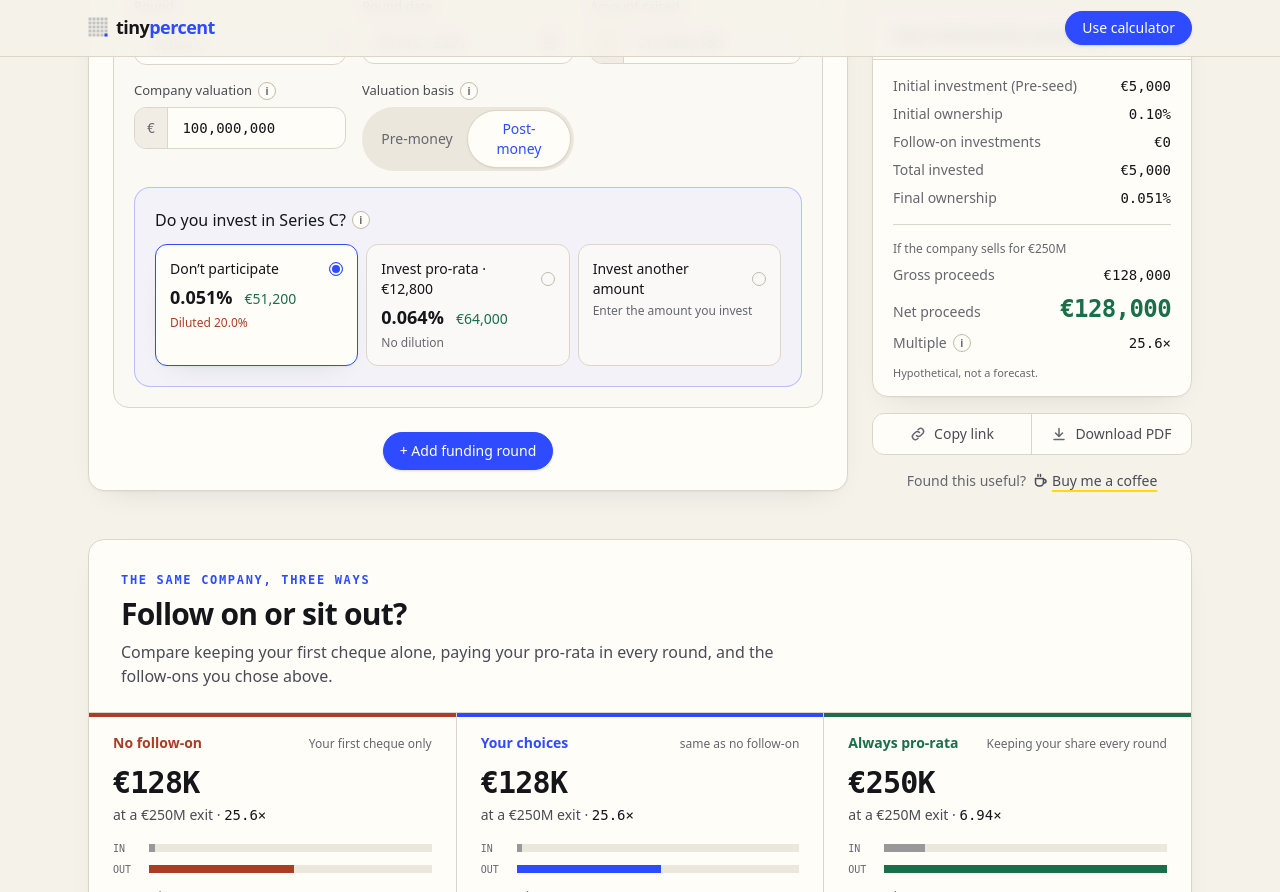
Test case: future rounds and the follow-on choice › asks for a decision on a round you add, and takes an amount or “don’t participate”
(page scrolled)
Click the button "+ Add funding round" at point(468, 450), box [383, 432, 553, 470]
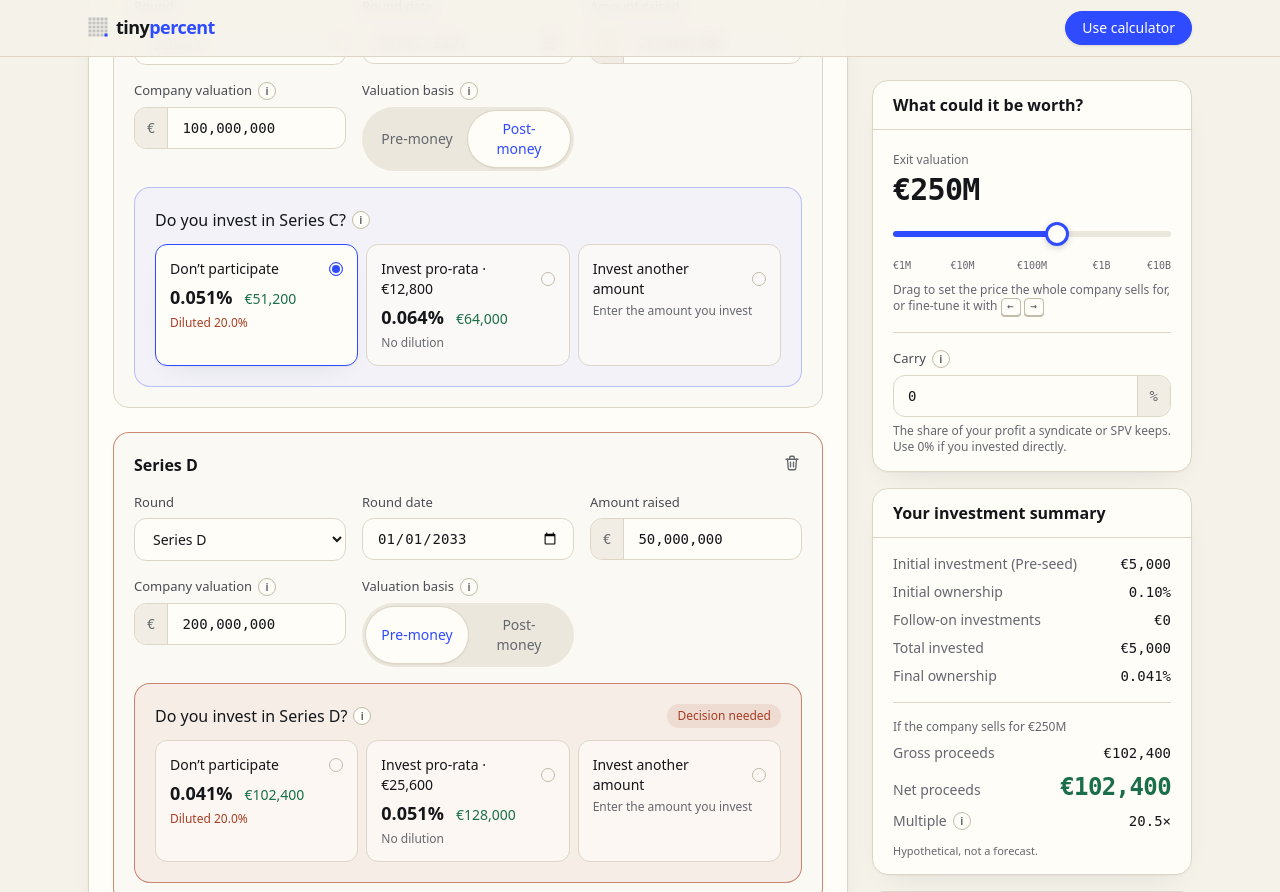
Expected: the message reads "Decision needed", [678, 706, 771, 724]
Click the radio button labelled "Invest another amount" below "Decision needed" at point(679, 800), box [578, 740, 781, 862]
(page scrolled)
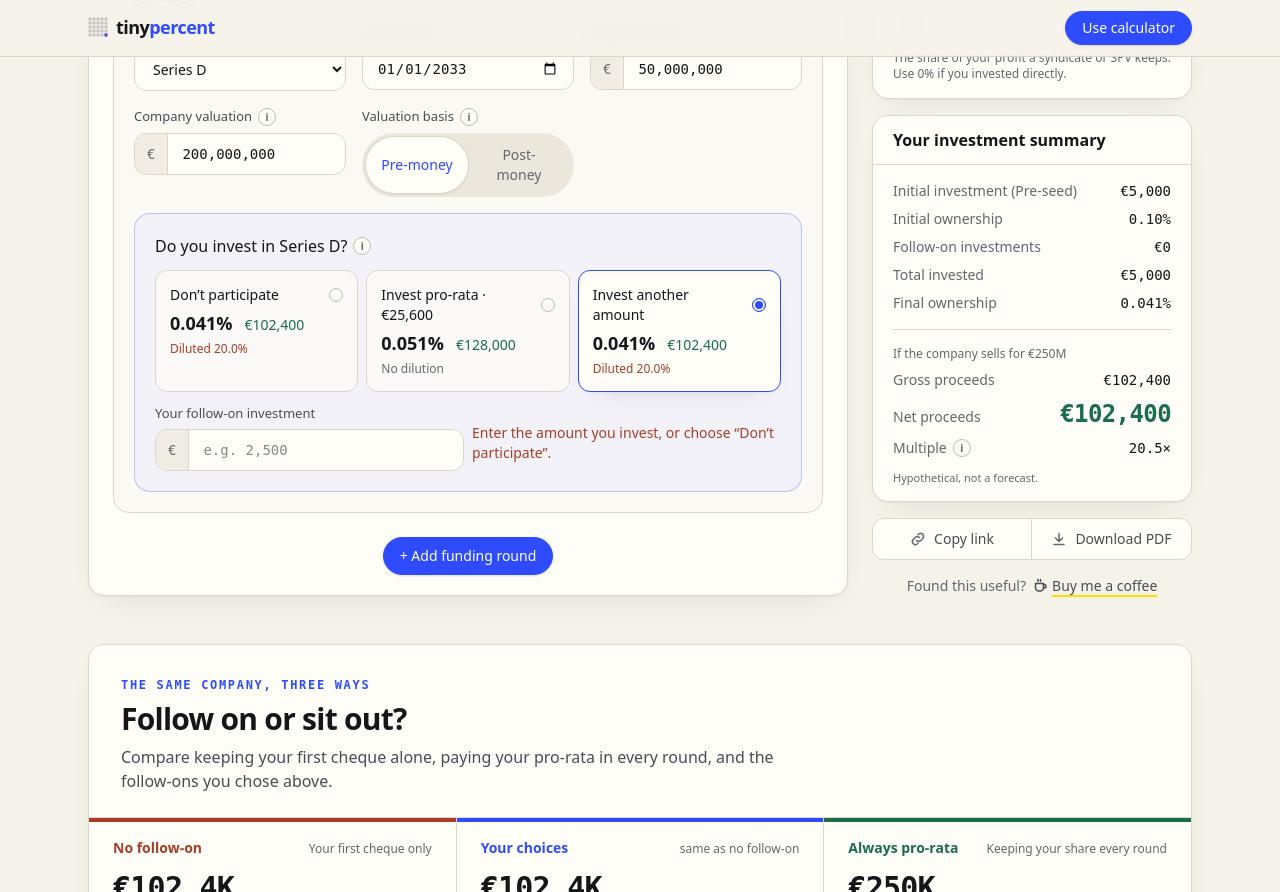
Expected: the message "Decision needed" is gone
Expected: the text "Enter the amount you invest, or choose “Don’t participate”." is shown, [472, 423, 781, 471]
Type "10k" into the field labelled "Your follow-on investment" at point(326, 450), box [189, 430, 463, 470]
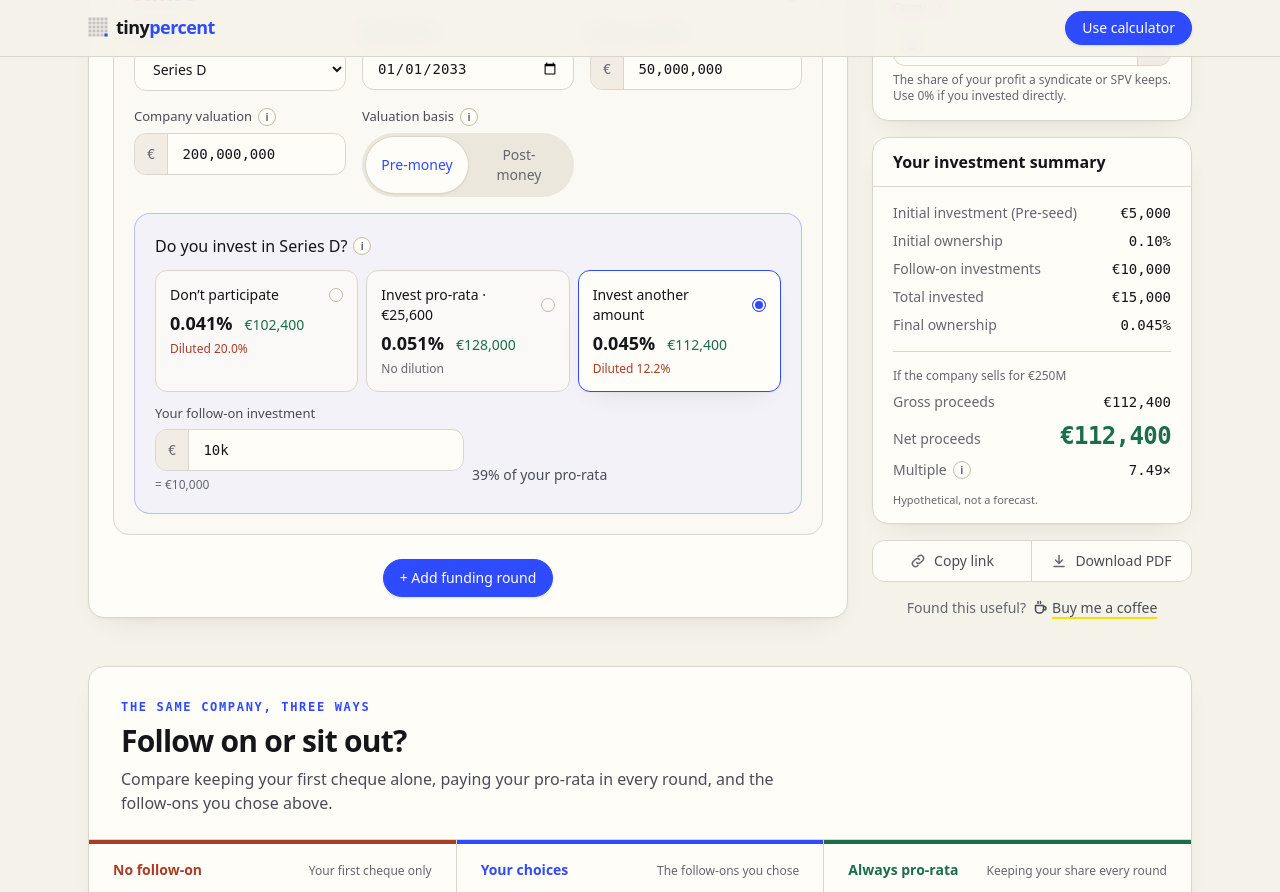
Expected: the text "39% of your pro-rata" is shown, [472, 465, 607, 484]
Click the radio button with aria-label "Don’t participate in Series D" at point(257, 330), box [155, 270, 358, 392]
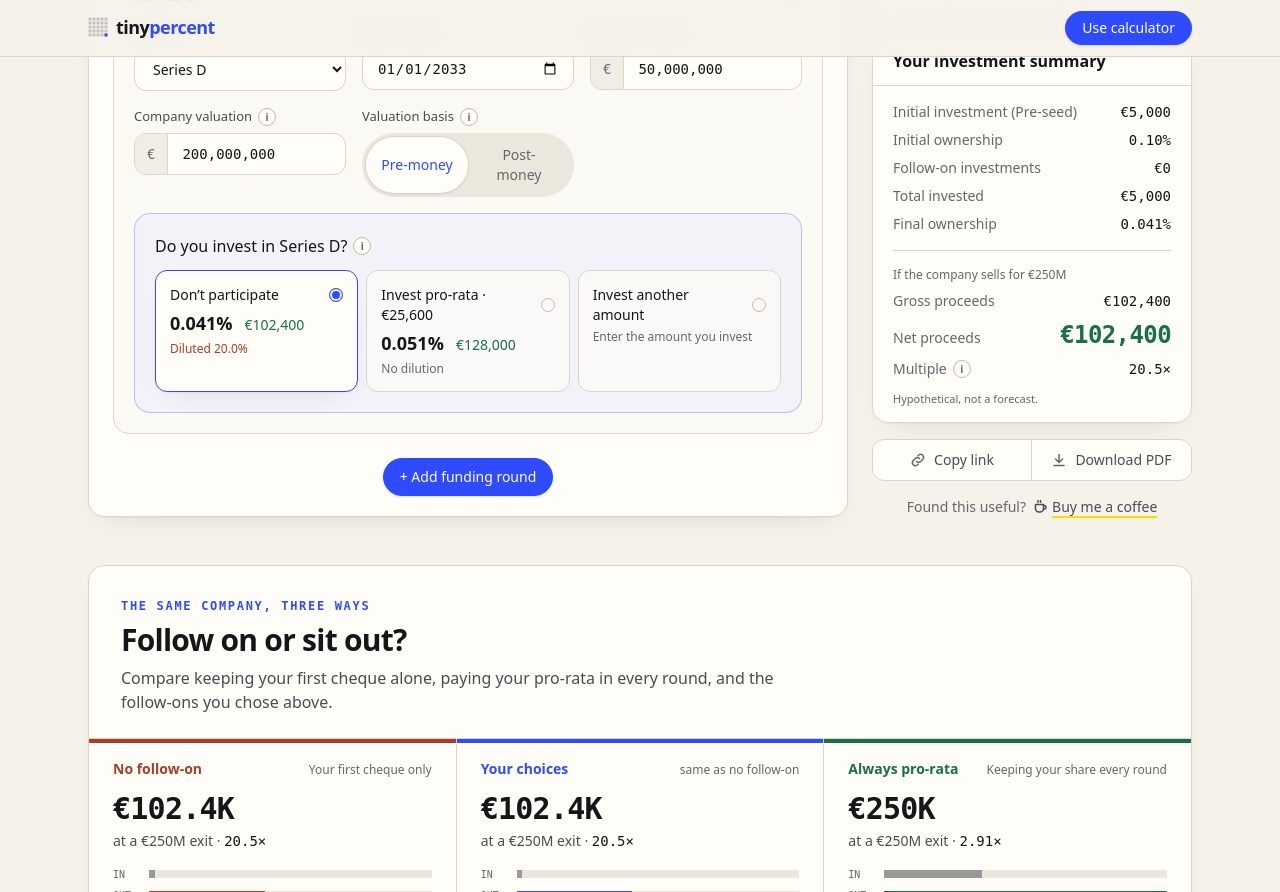
Expected: the label labelled "Your follow-on investment" is gone
